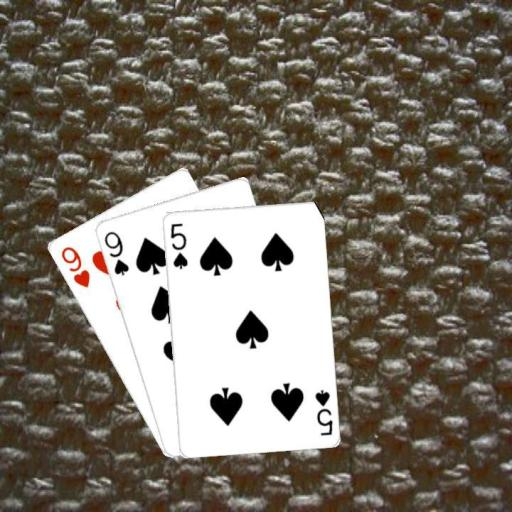5S: (167, 219, 189, 270), (312, 386, 334, 437)
9H: (58, 243, 91, 290)
9S: (100, 228, 130, 278)
